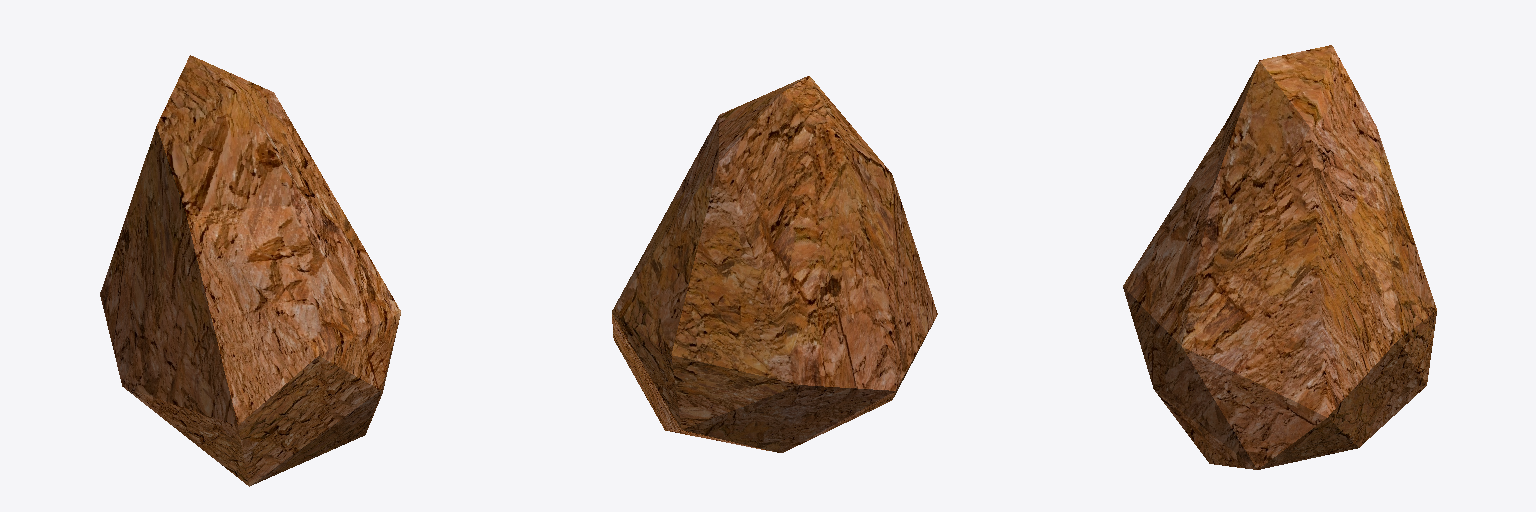
3 views of the same model, side by side, from view 1: azimuth 30°, elevation 25°; view 2: azimuth 150°, elevation 25°; view 3: azimuth 270°, elevation 25° (orthographic).
Visible parts, largest first — view 1: rockhigh8; view 2: rockhigh8; view 3: rockhigh8.
Part boxes in pixels (x1,y1,x2,y2): rockhigh8: (100,55,400,486); rockhigh8: (612,76,937,452); rockhigh8: (1123,45,1436,469).
Bounding box in the file's own units: 1.78 × 2.49 × 1.85.
Materials: 1 (1 with a texture image).